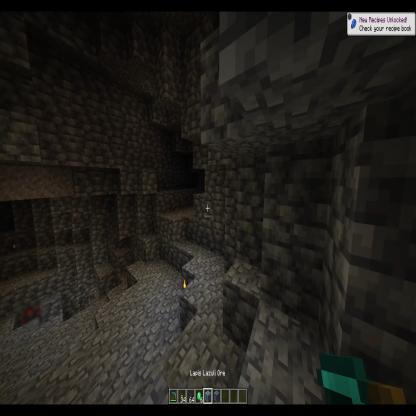redstone ore: (15, 301, 45, 327)
